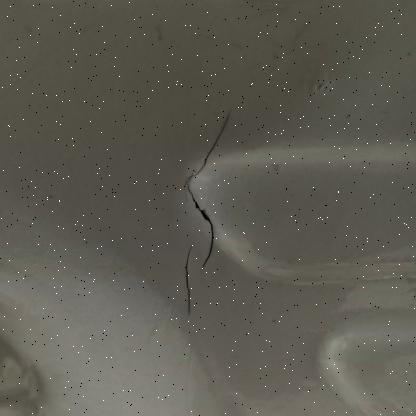Crack: (144, 100, 264, 348)
